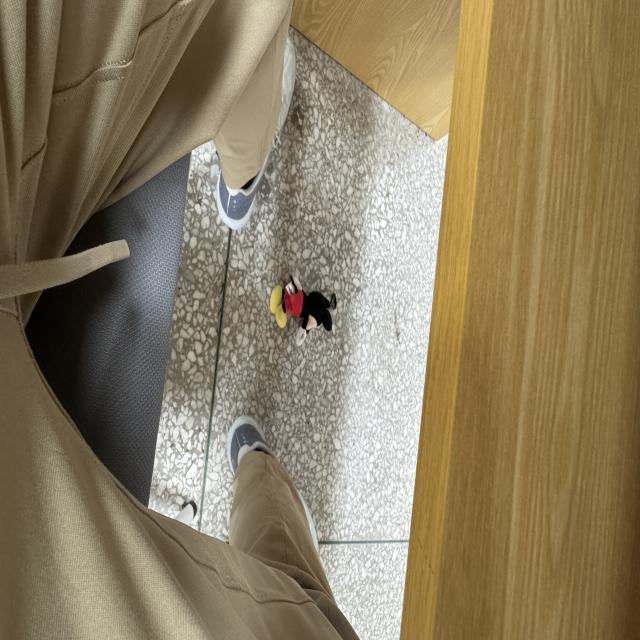mickey: (270, 277, 336, 345)
